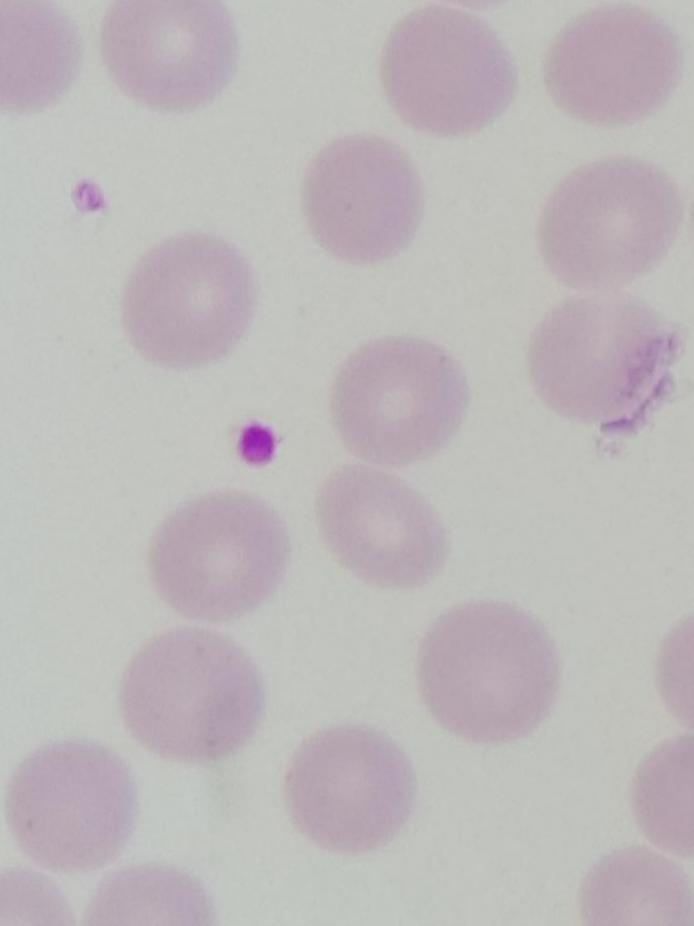Uninfected: (415, 603, 560, 744), (119, 628, 265, 763), (118, 230, 257, 367), (529, 298, 672, 424), (148, 491, 286, 620), (538, 159, 680, 284), (380, 9, 516, 137), (330, 338, 468, 463), (283, 725, 415, 853), (6, 741, 135, 870), (315, 469, 447, 590), (546, 5, 680, 124), (97, 0, 237, 113), (300, 136, 424, 262)
